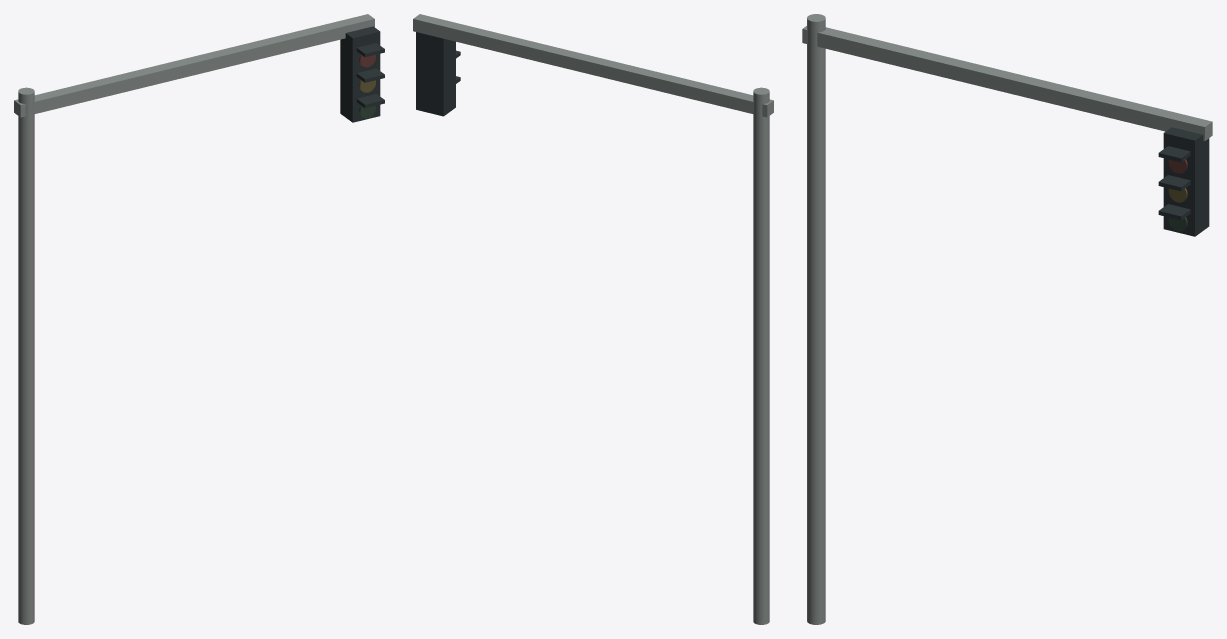
The model's file is blackout_traffic_signal.glb.
The picture shows the model from 3 angles, left to right: view 1: azimuth 30°, elevation 25°; view 2: azimuth 150°, elevation 25°; view 3: azimuth 330°, elevation 25°; orthographic projection. The views are drawn at different scales.
Parts seen in each view (by area): view 1: Mast upright, Mast arm, Signal case; view 2: Mast upright, Mast arm, Signal case; view 3: Mast upright, Mast arm, Signal case.
Boxes of the visible parts, x1,y1,x2,y2 form: Mast upright: [18, 87, 34, 624]; Mast arm: [14, 14, 374, 117]; Signal case: [340, 26, 380, 122]; Mast upright: [753, 87, 769, 624]; Mast arm: [413, 14, 773, 117]; Signal case: [416, 32, 455, 116]; Mast upright: [807, 14, 825, 624]; Mast arm: [802, 26, 1212, 140]; Signal case: [1163, 127, 1209, 236].
Size of the model in its own units: 3.78 by 5.41 by 0.425.
